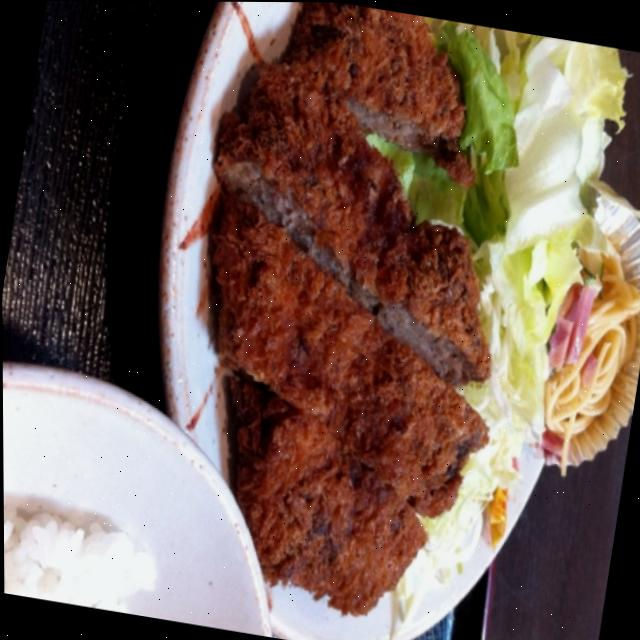炸货点心: (42, 0, 640, 640)
